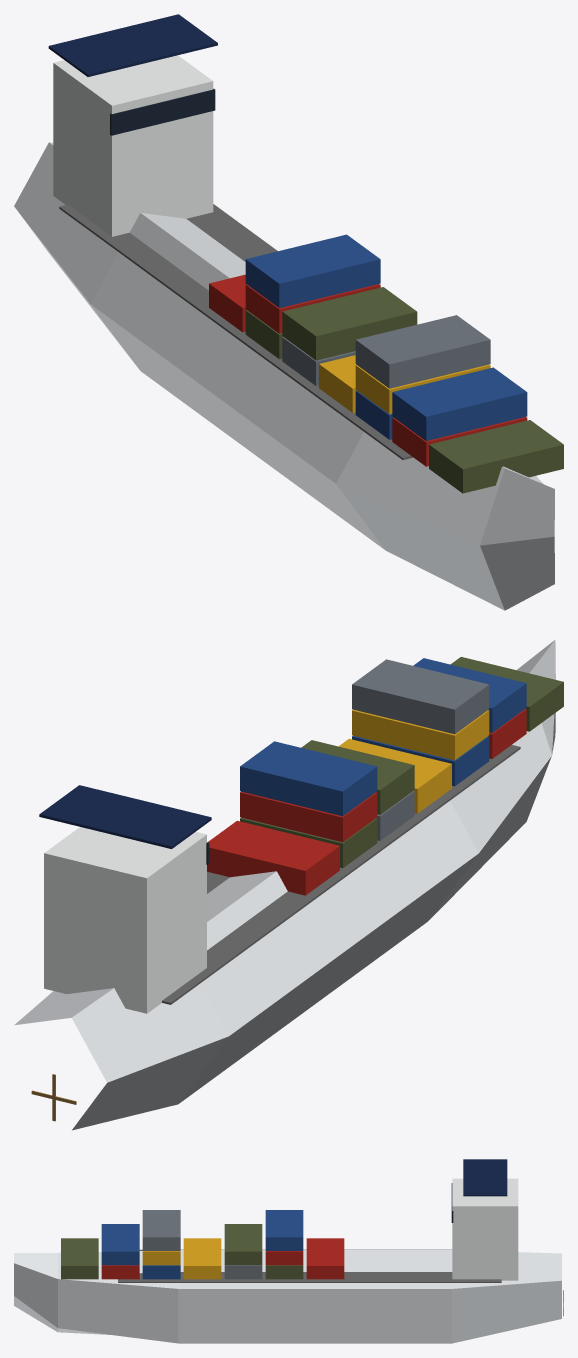
Rendered from veh_naval_merchant_a09_lod1.glb.
The picture shows the model from 3 angles, top to bottom: view 1: azimuth 30°, elevation 25°; view 2: azimuth 150°, elevation 25°; view 3: azimuth 270°, elevation 25°; orthographic projection. The views are drawn at different scales.
Parts seen in each view (by area): view 1: body; view 2: body; view 3: body.
Part boxes in pixels (x1=…): body: x1=14, y1=14, x2=563, y2=610; body: x1=14, y1=640, x2=563, y2=1130; body: x1=14, y1=1159, x2=561, y2=1343.
Size of the model in its own units: 5.62 by 11.72 by 34.92.
